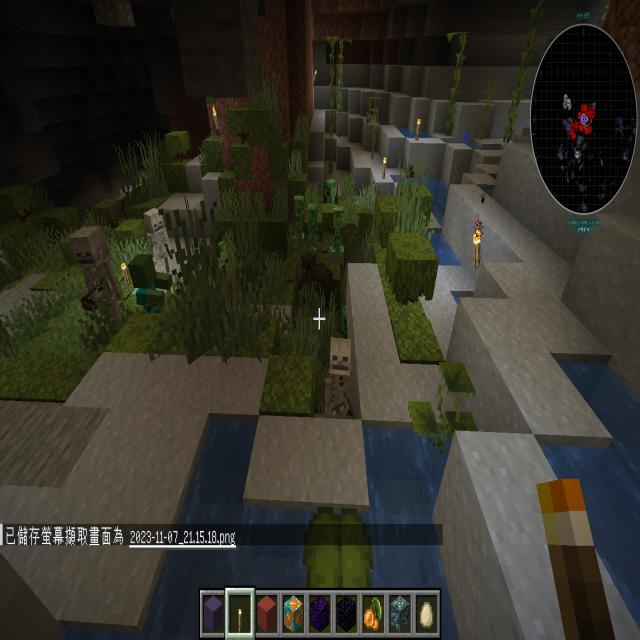Creeper: (327, 202, 351, 264), (304, 198, 322, 264), (290, 190, 307, 253), (322, 169, 340, 207)
Skeleton: (65, 221, 132, 340), (318, 334, 357, 434), (142, 204, 180, 286)
Spider: (289, 251, 350, 326)
Zombie: (128, 243, 174, 330)
